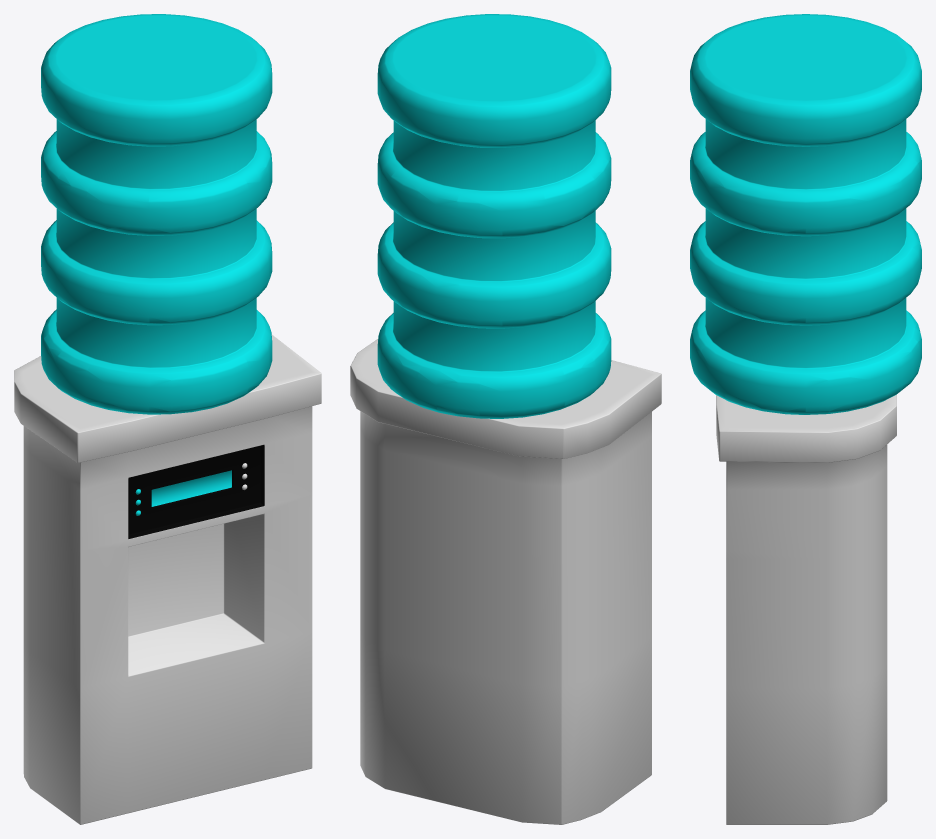
The model's file is WaterTank.fbx.
3 renders of one model, left to right at view 1: azimuth 30°, elevation 25°; view 2: azimuth 150°, elevation 25°; view 3: azimuth 270°, elevation 25°, orthographic.
Visible parts, largest first — view 1: WaterTank; view 2: WaterTank; view 3: WaterTank.
Boxes of the visible parts, left/top/right/bottom form: WaterTank: left=14, top=14, right=321, bottom=824; WaterTank: left=350, top=14, right=661, bottom=824; WaterTank: left=690, top=14, right=921, bottom=824.
Bounding box in the file's own units: 171 × 466 × 138.
